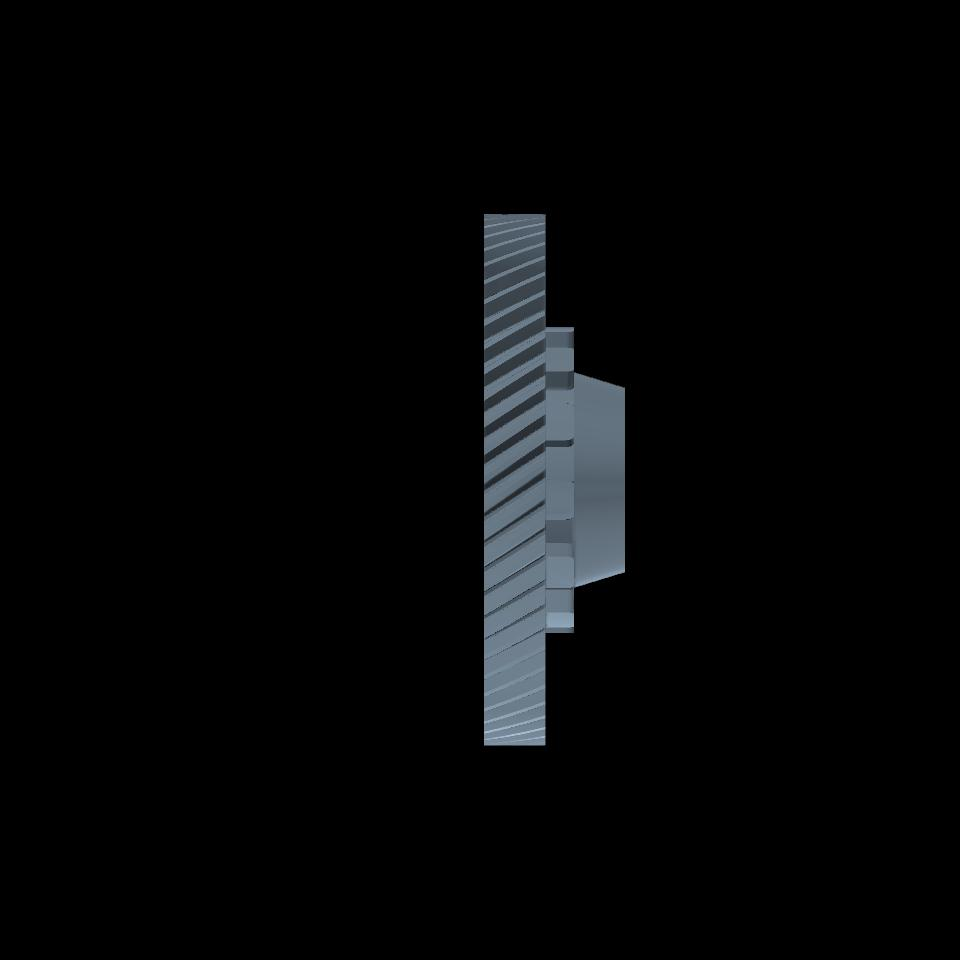Helical: (484, 213, 545, 743)
